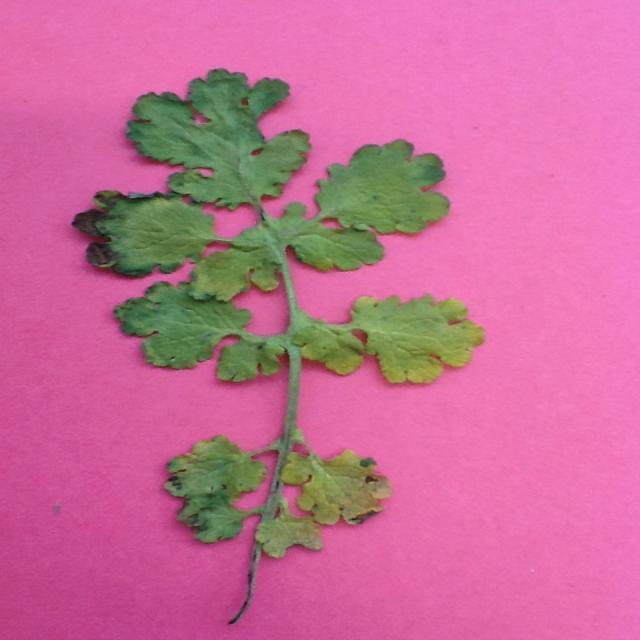foliage: (123, 64, 314, 210), (267, 137, 457, 275), (71, 189, 274, 300), (114, 276, 290, 380), (296, 294, 484, 386), (286, 425, 395, 528), (168, 436, 278, 503), (259, 506, 329, 558), (172, 500, 256, 540)
